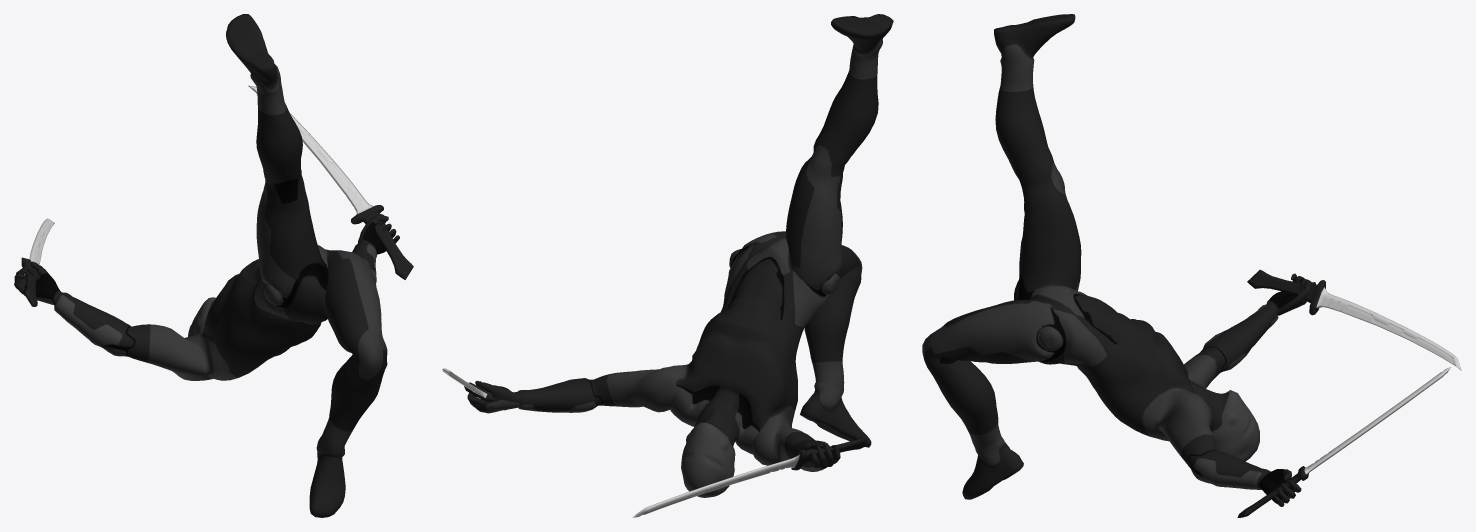
3 renders of one model, left to right at view 1: azimuth 30°, elevation 25°; view 2: azimuth 150°, elevation 25°; view 3: azimuth 270°, elevation 25°, orthographic.
Visible parts, largest first — view 1: Cyborg_Ninja_Killer, Sword_l, Sword_l001; view 2: Cyborg_Ninja_Killer, Sword_l001; view 3: Cyborg_Ninja_Killer, Sword_l001, Sword_l.
Part boxes in pixels (x1,y1,x2,y2): Cyborg_Ninja_Killer: (14,14,399,517); Sword_l: (248,85,413,279); Sword_l001: (21,218,54,306); Cyborg_Ninja_Killer: (467,14,893,497); Sword_l001: (632,437,868,517); Cyborg_Ninja_Killer: (922,14,1311,506); Sword_l001: (1247,269,1461,370); Sword_l: (1237,367,1451,517).
Bounding box in the file's own units: 150 × 175 × 184.
2 materials, 2 textured.
